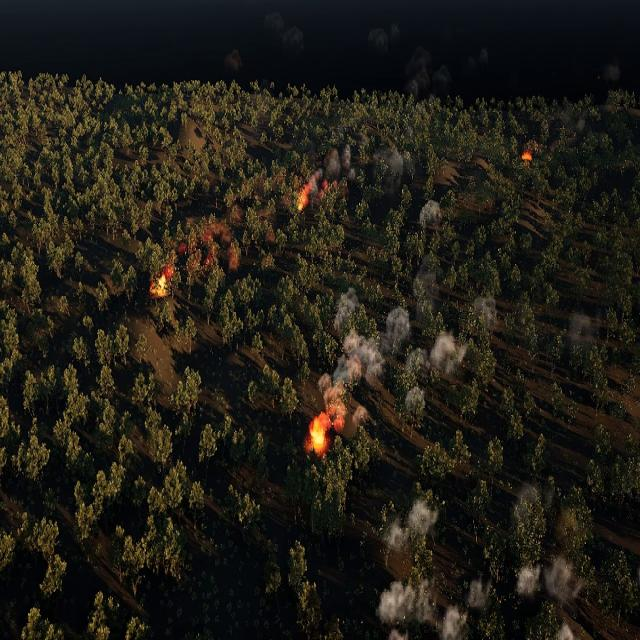fire: (310, 415, 328, 453), (152, 271, 170, 297), (300, 182, 310, 210), (522, 150, 532, 162)
smoke: (323, 287, 471, 428), (380, 498, 491, 640), (179, 172, 289, 280), (517, 551, 581, 607), (310, 143, 356, 200), (405, 46, 451, 98), (266, 11, 304, 54), (417, 254, 441, 307), (566, 311, 598, 344), (369, 23, 401, 53), (555, 102, 585, 134), (476, 294, 498, 329), (419, 200, 442, 228), (469, 46, 490, 70), (598, 61, 620, 83), (226, 48, 243, 74), (555, 619, 574, 640)
